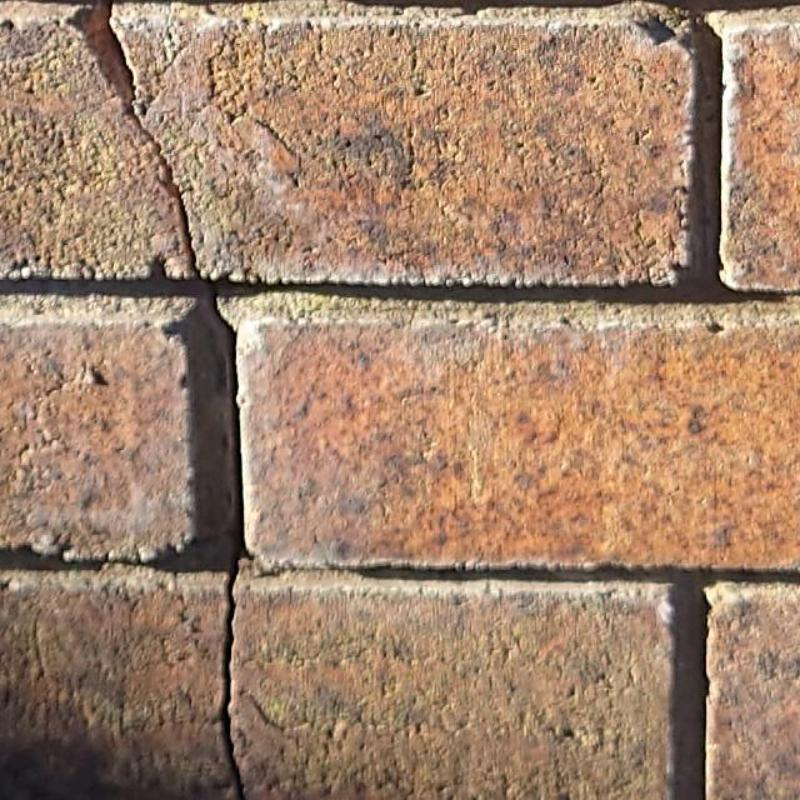crack: (207, 283, 246, 799), (137, 123, 202, 278), (108, 0, 141, 123)
